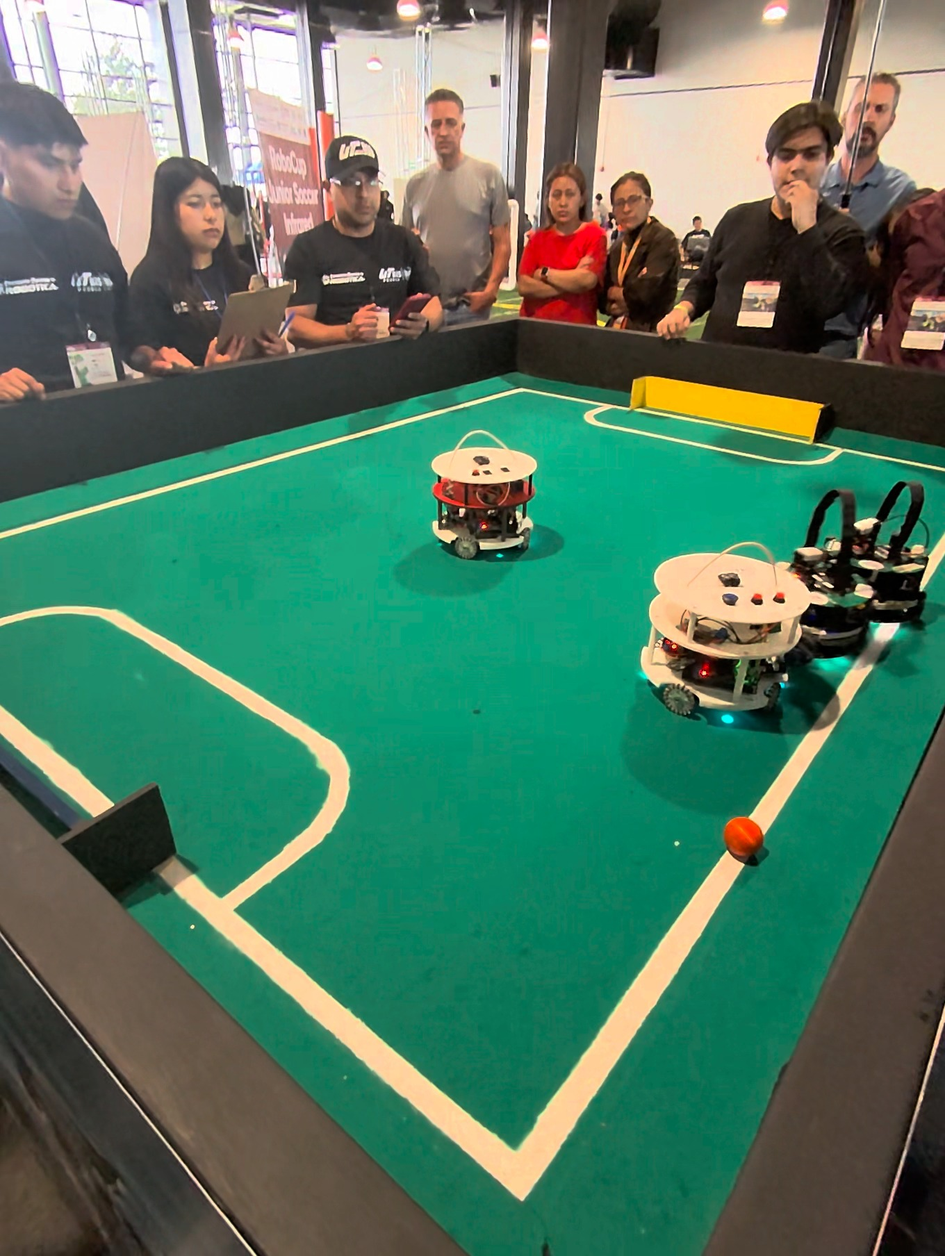Robot: (635, 528, 808, 746), (429, 419, 543, 566), (787, 476, 870, 656), (855, 472, 945, 630)
pelota: (721, 816, 767, 864)
